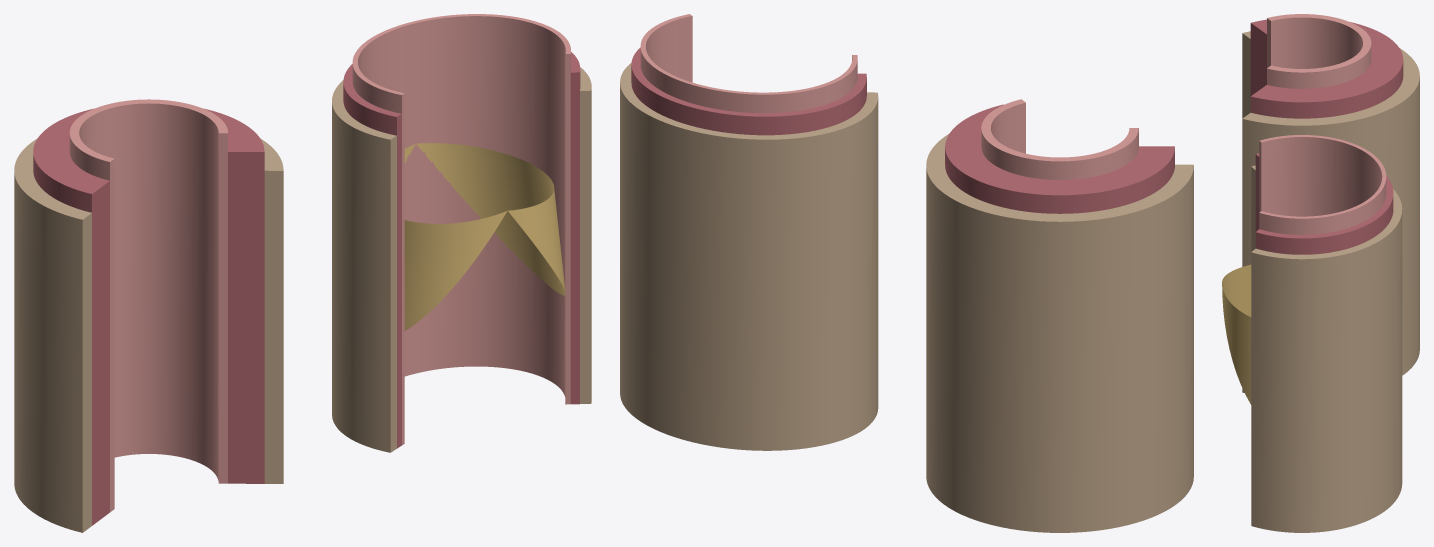
Rendered from ap2-vessel-walls.glb.
3 renders of one model, left to right at view 1: azimuth 30°, elevation 25°; view 2: azimuth 150°, elevation 25°; view 3: azimuth 270°, elevation 25°, orthographic. The views are drawn at different scales.
Visible parts, largest first — view 1: vein_intima, artery_intima, artery_externa, vein_externa, artery_media, vein_leaflet_a, vein_media, vein_leaflet_b; view 2: artery_externa, vein_externa, artery_media, vein_intima, vein_media, artery_intima; view 3: vein_externa, artery_externa, vein_intima, artery_media, artery_intima, vein_media, vein_leaflet_a, vein_leaflet_b.
Boxes of the visible parts, left/top/right/bottom form: vein_intima: left=352, top=14, right=570, bottom=445; artery_intima: left=69, top=99, right=227, bottom=512; artery_externa: left=14, top=138, right=283, bottom=532; vein_externa: left=332, top=67, right=591, bottom=452; artery_media: left=33, top=108, right=264, bottom=525; vein_leaflet_a: left=416, top=143, right=565, bottom=295; vein_media: left=343, top=52, right=580, bottom=448; vein_leaflet_b: left=404, top=144, right=507, bottom=330; artery_externa: left=926, top=133, right=1193, bottom=532; vein_externa: left=620, top=62, right=878, bottom=450; artery_media: left=945, top=104, right=1174, bottom=213; vein_intima: left=640, top=14, right=857, bottom=113; vein_media: left=631, top=47, right=866, bottom=135; artery_intima: left=981, top=99, right=1138, bottom=179; vein_externa: left=1251, top=165, right=1402, bottom=532; artery_externa: left=1242, top=31, right=1419, bottom=392; vein_intima: left=1259, top=135, right=1386, bottom=234; artery_media: left=1250, top=19, right=1403, bottom=118; artery_intima: left=1267, top=14, right=1371, bottom=88; vein_media: left=1255, top=153, right=1393, bottom=254; vein_leaflet_a: left=1222, top=284, right=1251, bottom=404; vein_leaflet_b: left=1222, top=264, right=1251, bottom=316.
Size of the model in its own units: 3.98 by 2.44 by 1.43.
